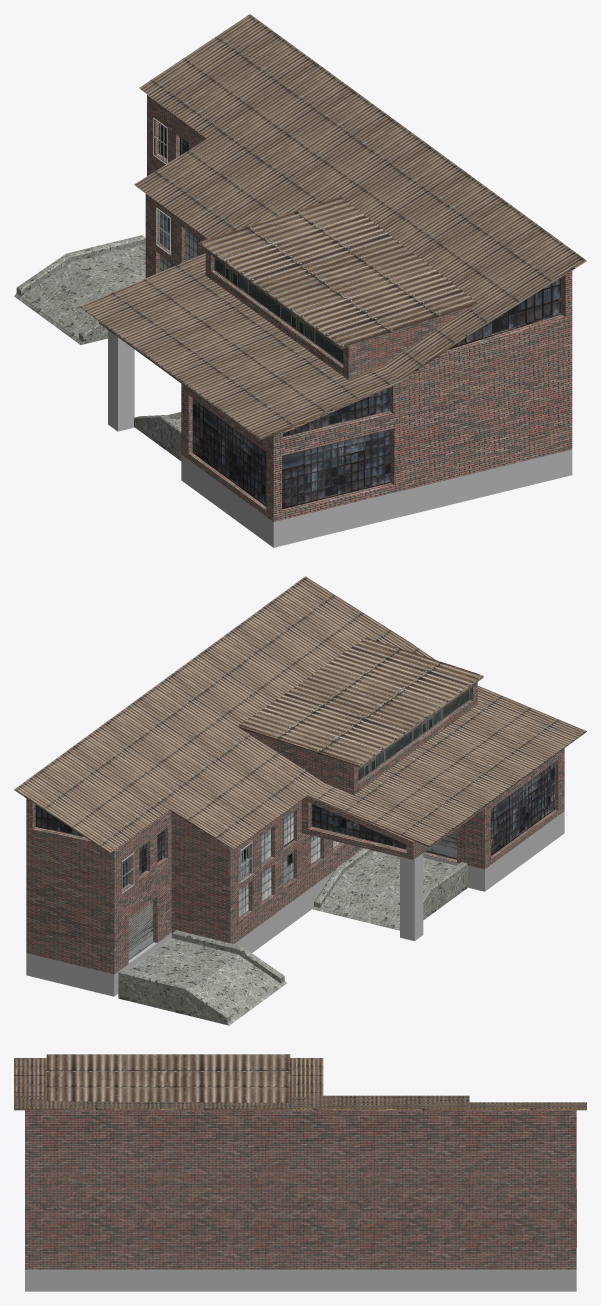
File: house3_lod1.fbx
3 renders of one model, top to bottom at view 1: azimuth 30°, elevation 25°; view 2: azimuth 150°, elevation 25°; view 3: azimuth 270°, elevation 25°, orthographic. The views are drawn at different scales.
Parts seen in each view (by area): view 1: Mesh Object, Mesh Object_ncl1_1; view 2: Mesh Object, Mesh Object_ncl1_1; view 3: Mesh Object, Mesh Object_ncl1_1.
Boxes of the visible parts, x1=… form: Mesh Object: x1=79, y1=14, x2=586, y2=547; Mesh Object_ncl1_1: x1=14, y1=196, x2=476, y2=460; Mesh Object: x1=14, y1=576, x2=586, y2=996; Mesh Object_ncl1_1: x1=118, y1=637, x2=483, y2=1025; Mesh Object: x1=14, y1=1058, x2=586, y2=1291; Mesh Object_ncl1_1: x1=46, y1=1054, x2=576, y2=1247.
Bounding box in the file's own units: 12.02 × 7.72 × 21.41.
